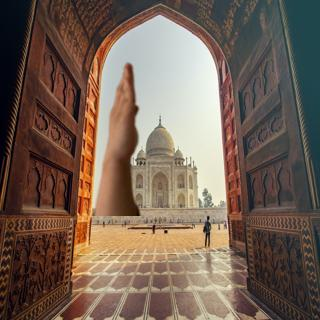RIGHT: (101, 56, 148, 170)
